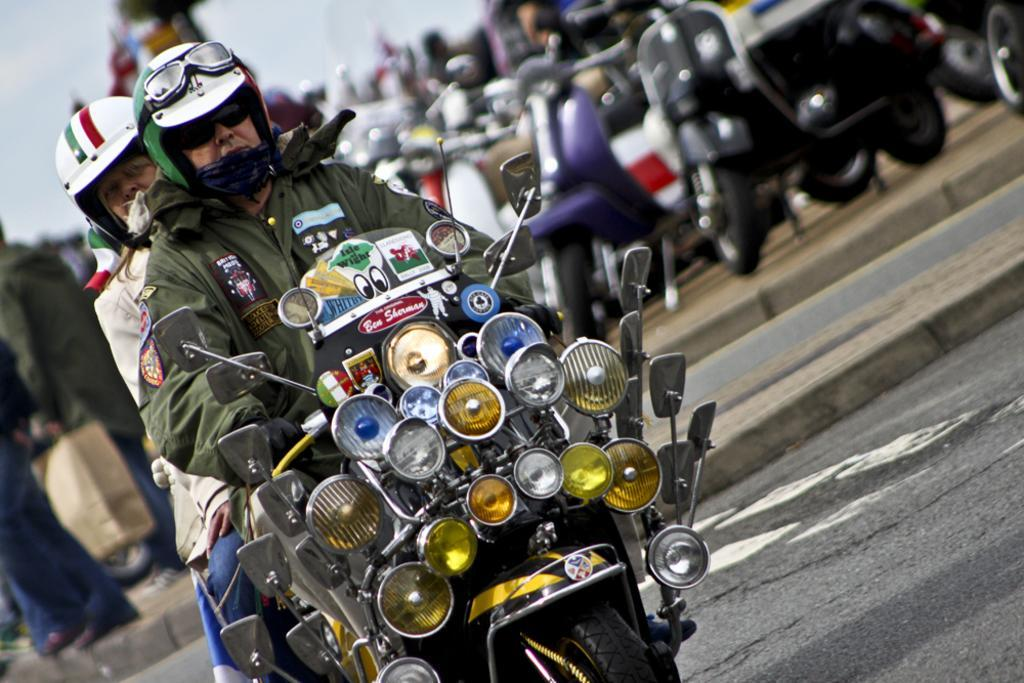helmet: (131, 39, 279, 205), (54, 93, 174, 251)
